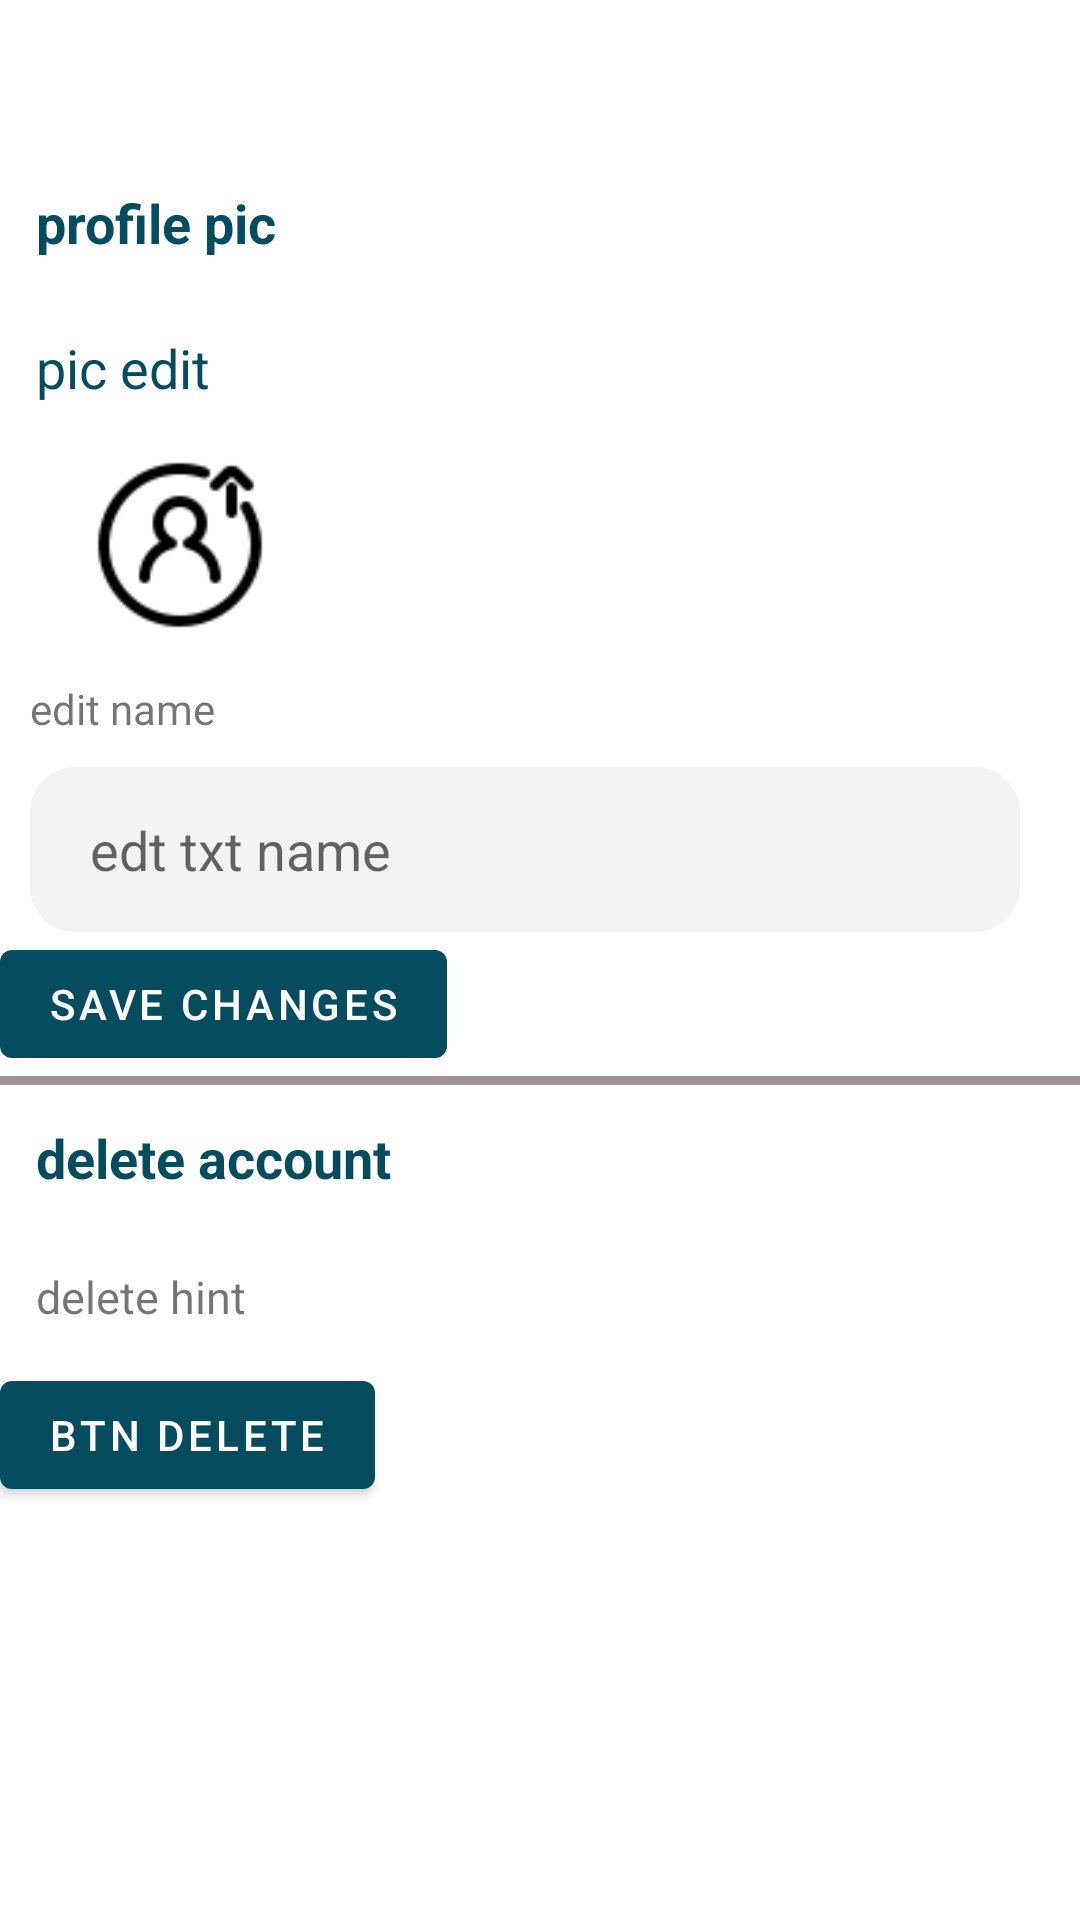

Named icons in this screenshot (1080w x 1920h) and their centers, point (x, y):
user: point (180, 545)
